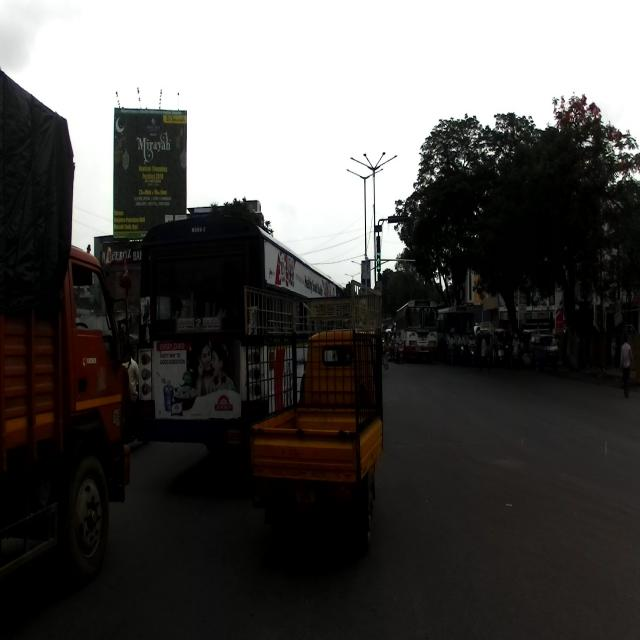autorickshaw: (242, 278, 388, 550)
bus: (136, 210, 344, 454)
truck: (0, 71, 129, 586)
